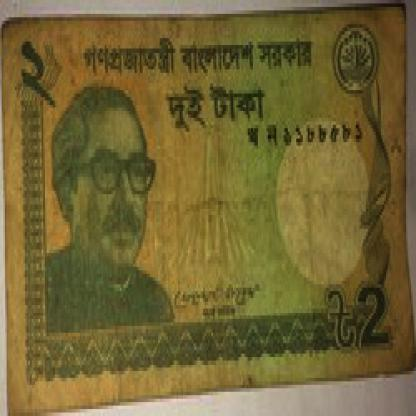two taka: (15, 35, 70, 118), (358, 284, 401, 371)
